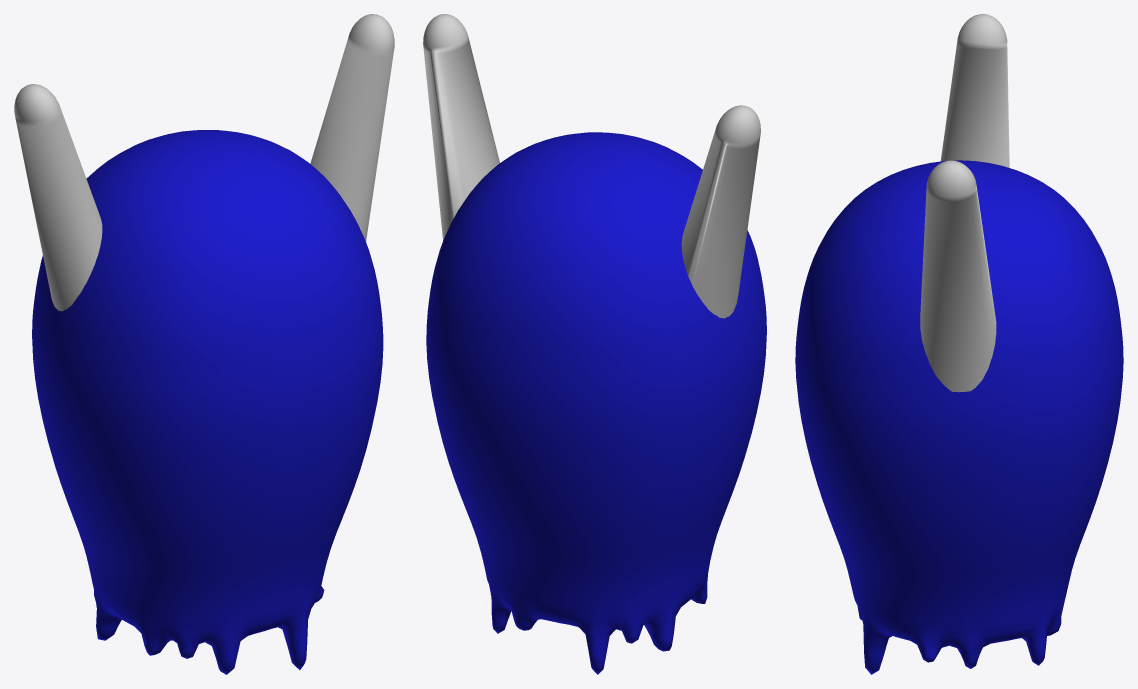
File: beforeThrow_000031.obj
3 views of the same model, side by side, from view 1: azimuth 30°, elevation 25°; view 2: azimuth 150°, elevation 25°; view 3: azimuth 270°, elevation 25° (orthographic). The views are drawn at different scales.
Visible parts, largest first — view 1: Cube, Sphere.001, Sphere; view 2: Cube, Sphere.001, Sphere; view 3: Cube, Sphere, Sphere.001.
Boxes of the visible parts, <box> form: Cube: <box>32,130,383,674</box>; Sphere.001: <box>14,84,102,311</box>; Sphere: <box>310,14,394,241</box>; Cube: <box>426,132,766,674</box>; Sphere.001: <box>681,105,760,318</box>; Sphere: <box>423,14,499,240</box>; Cube: <box>795,160,1123,674</box>; Sphere: <box>920,160,996,392</box>; Sphere.001: <box>940,14,1009,167</box>.
Bounding box in the file's own units: 0.3414 × 0.545 × 0.2859.
